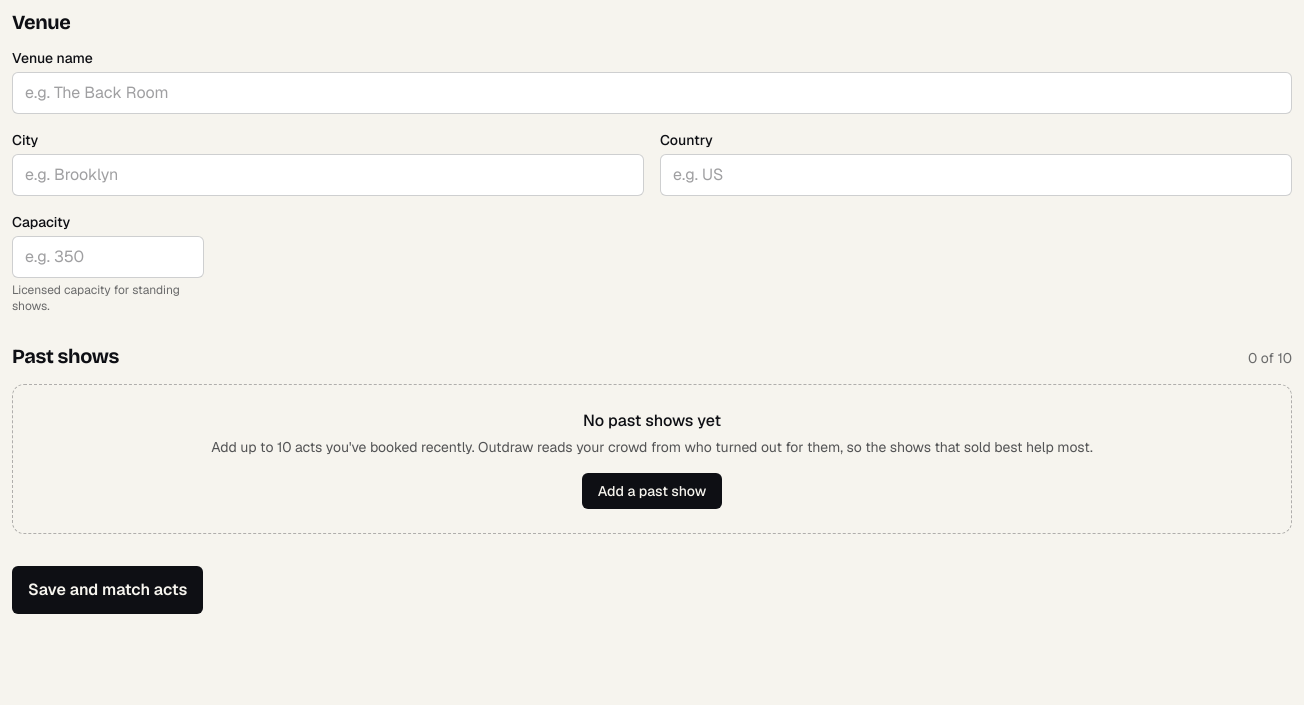
Test: venue form › shows an empty state until a show is added
Expected: the text "No past shows yet" is shown, x1=583 y1=410 x2=721 y2=431
Click the button "Add a past show": (652, 491) x1=582 y1=473 x2=722 y2=509
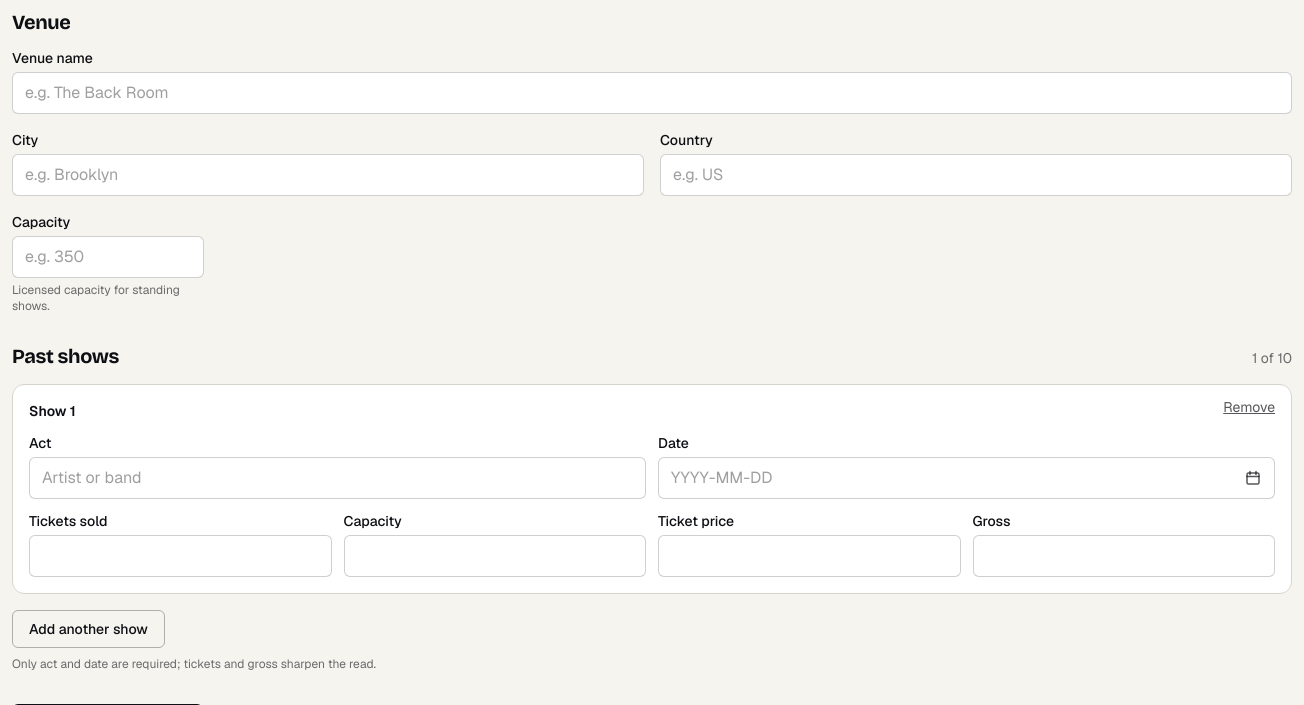
Result: the text "No past shows yet" is gone
